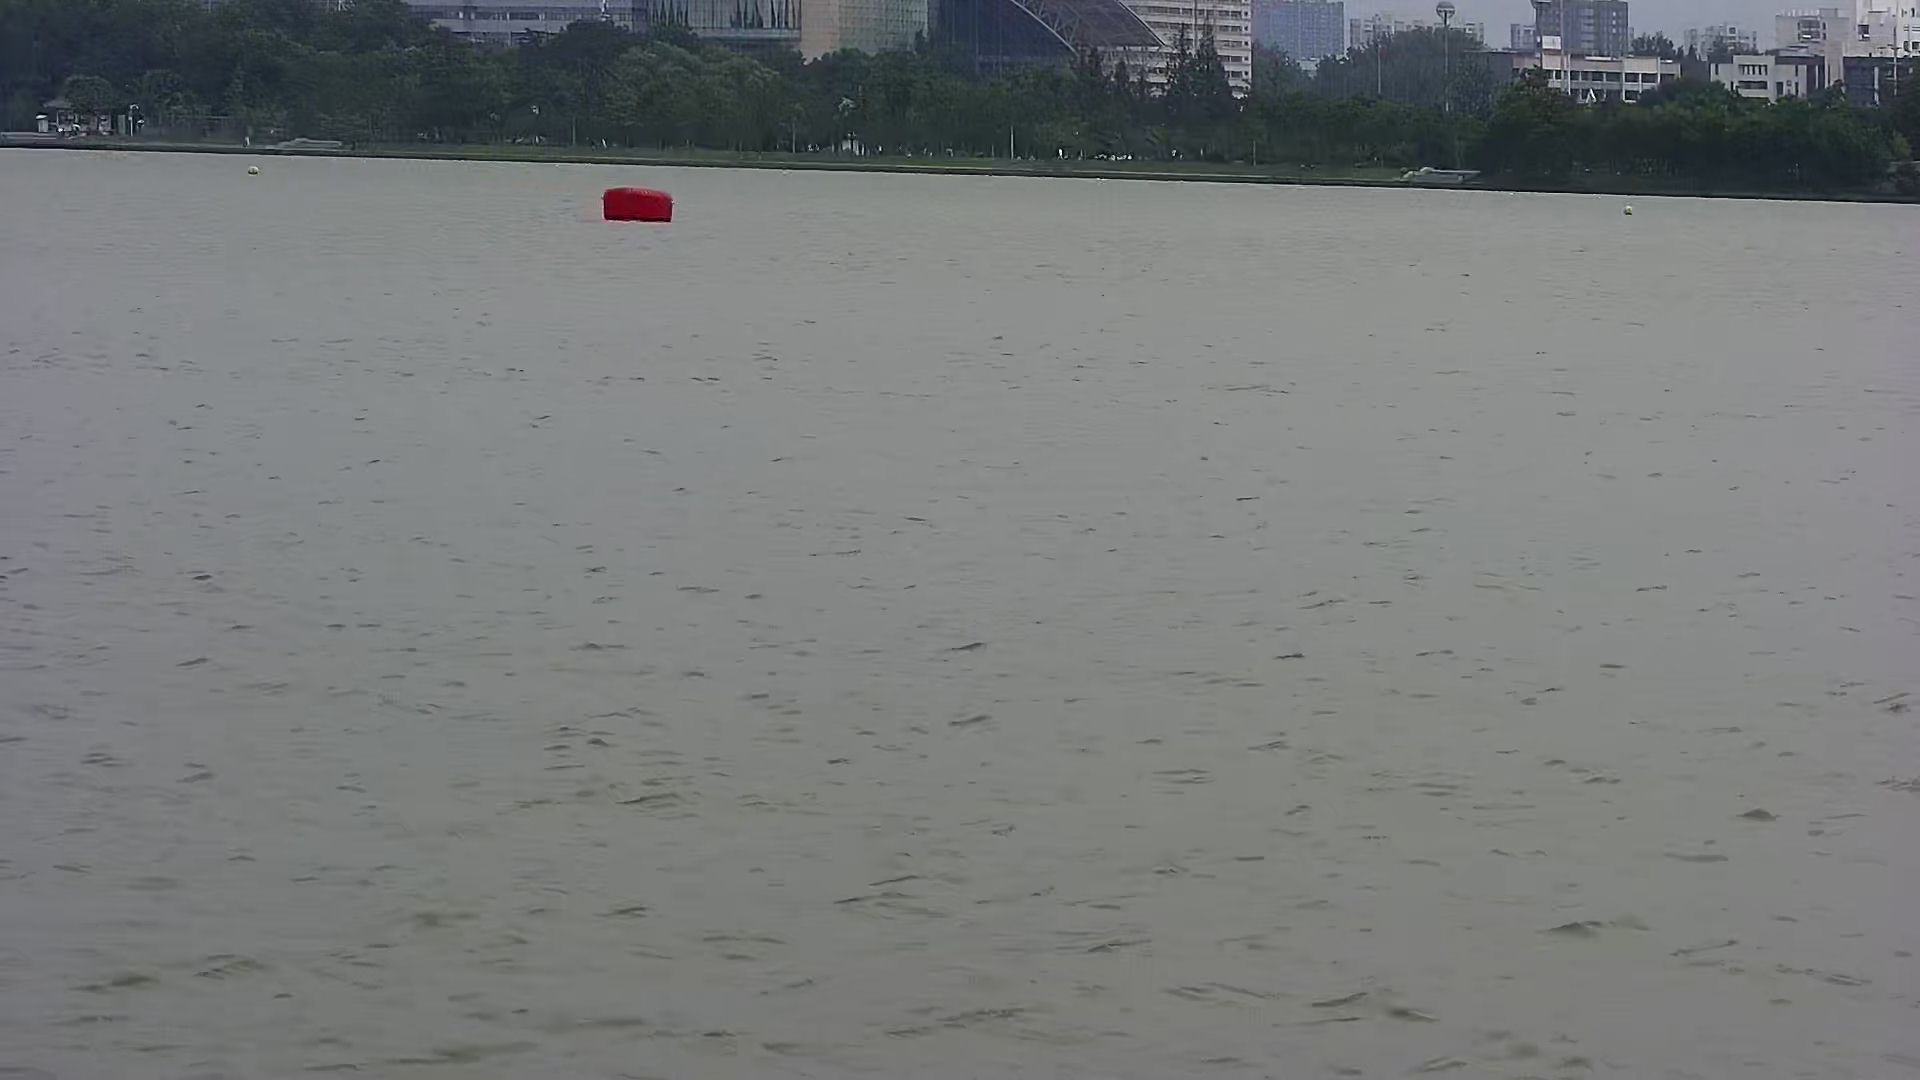rubbish: (599, 182, 673, 223)
